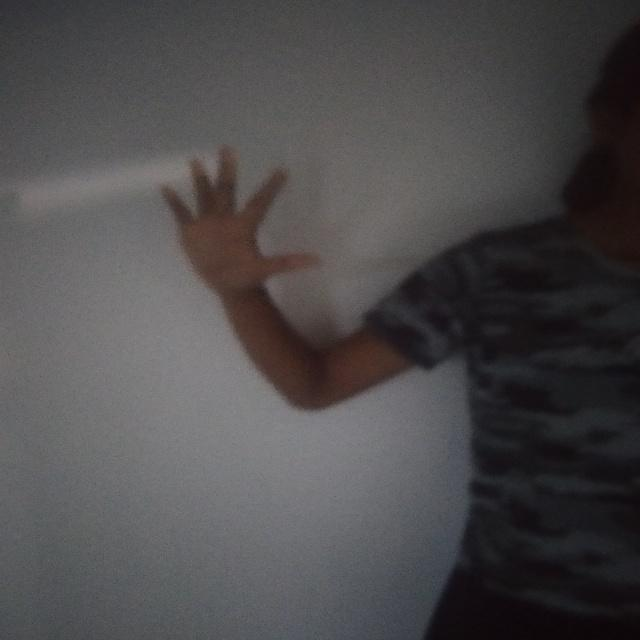Moutza: (151, 136, 329, 308)
